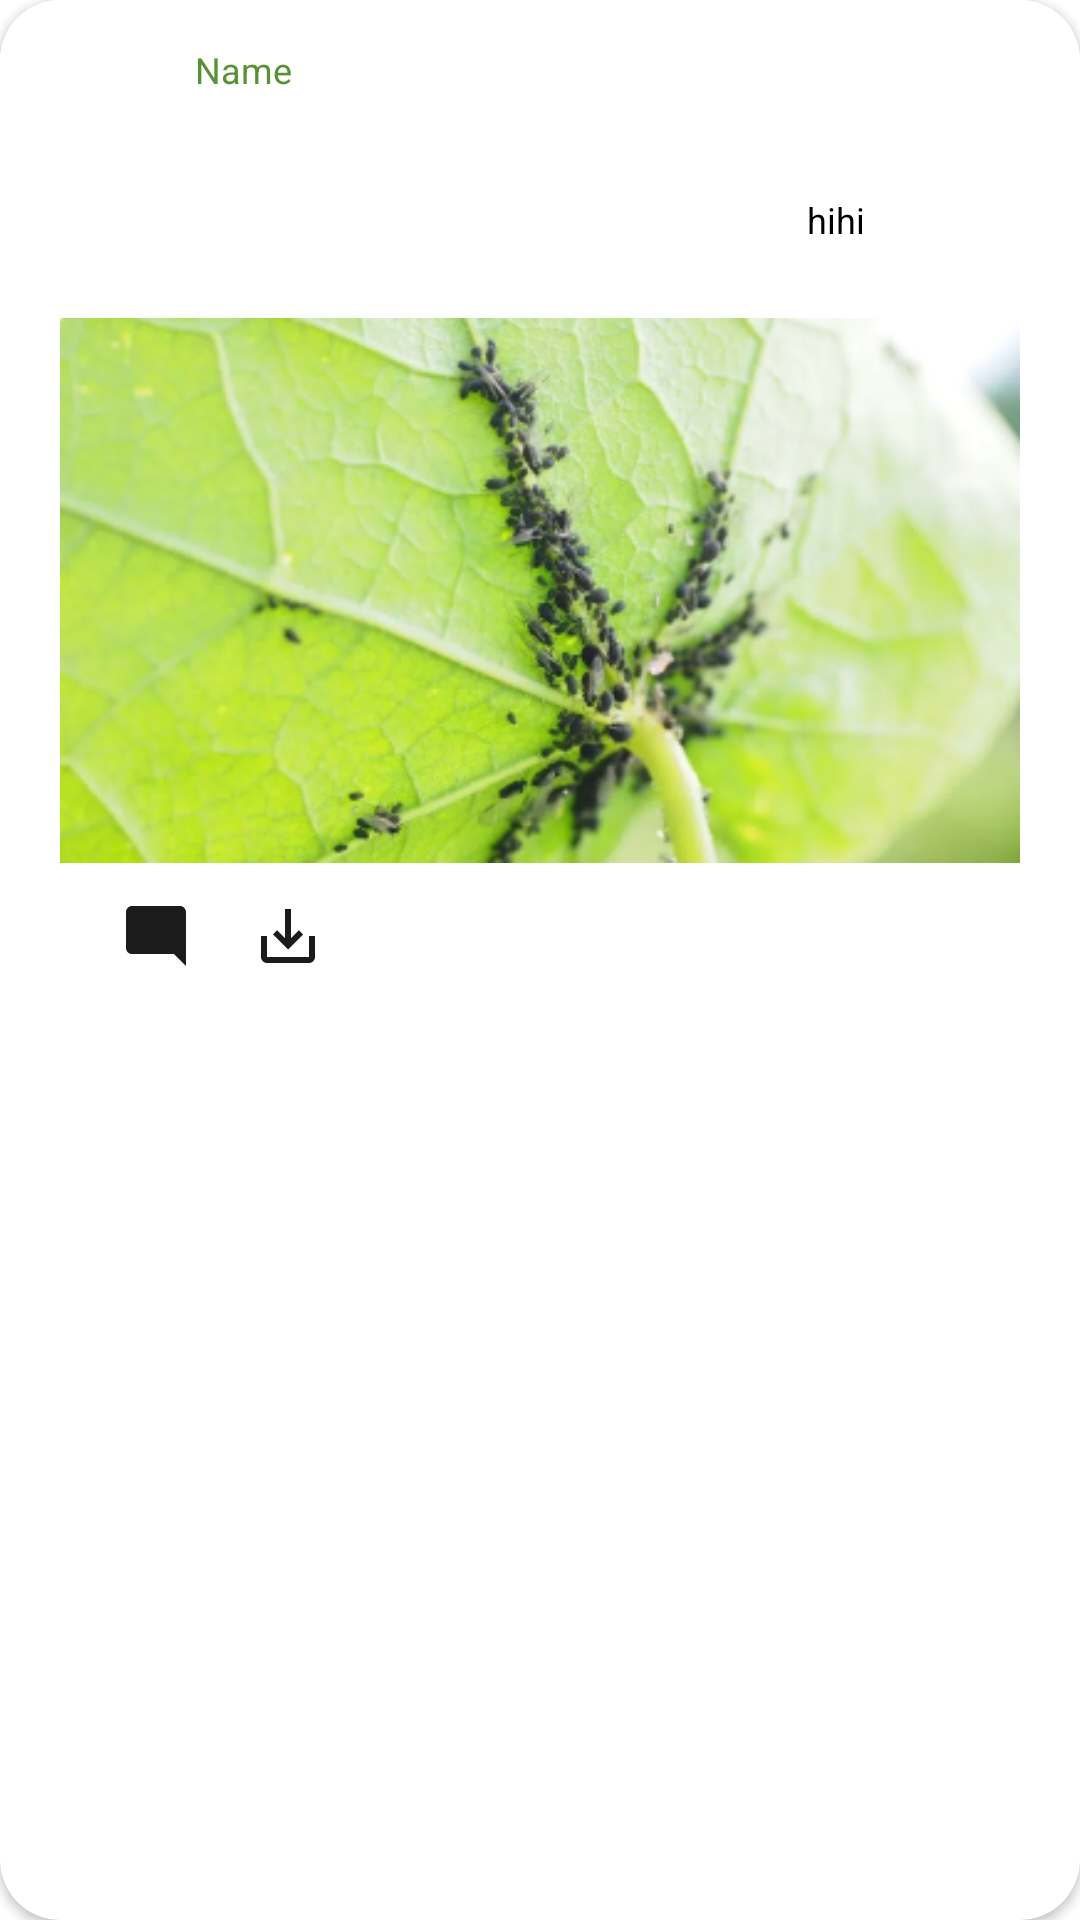

Where to tap for icons on this 1080px x 1920px app screen, as (x,y):
mode comment: (156,936)
save: (288,936)
